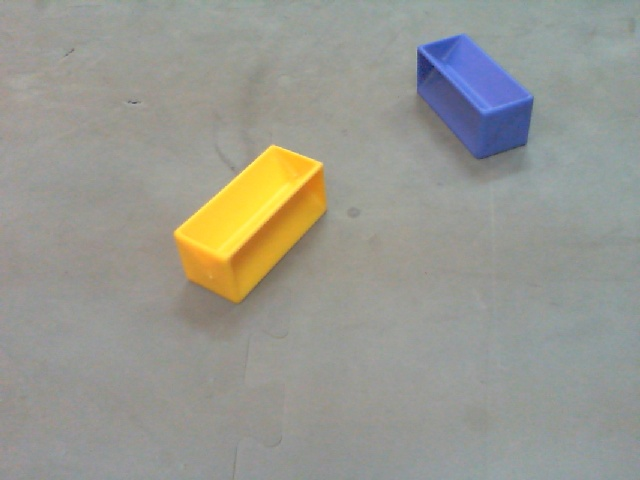BlueSample: (414, 32, 536, 162)
YellowSample: (169, 140, 329, 304)
